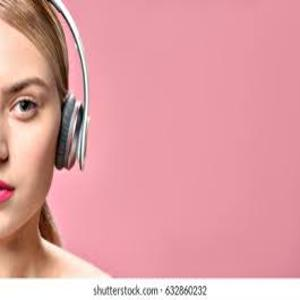Headphones: (30, 1, 90, 172)
